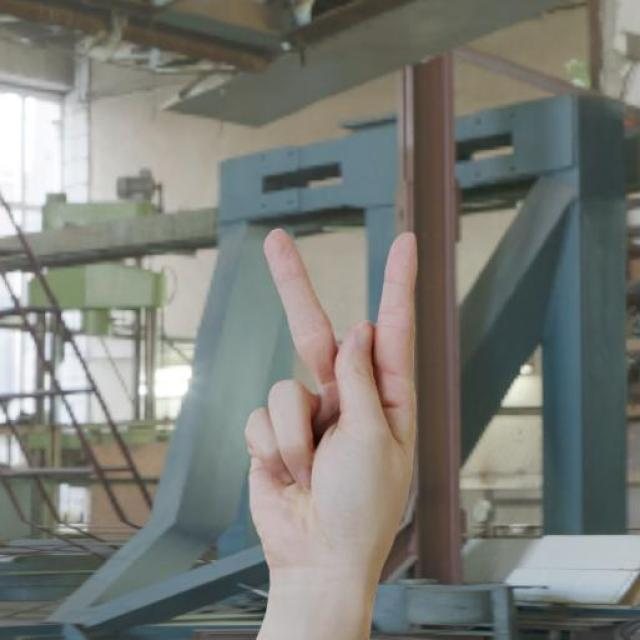K: (245, 224, 422, 574)
